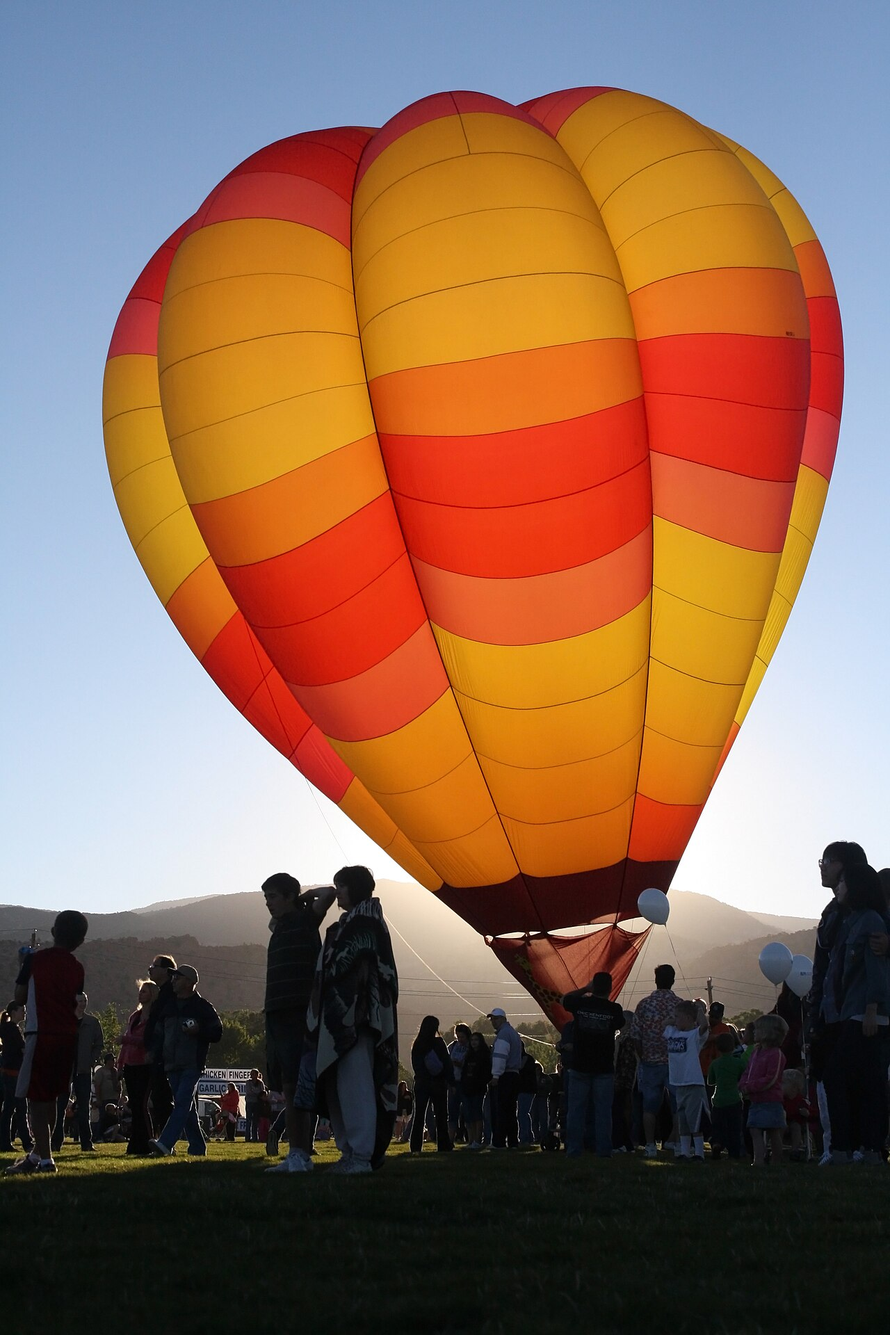balloon: (100, 88, 844, 1031)
